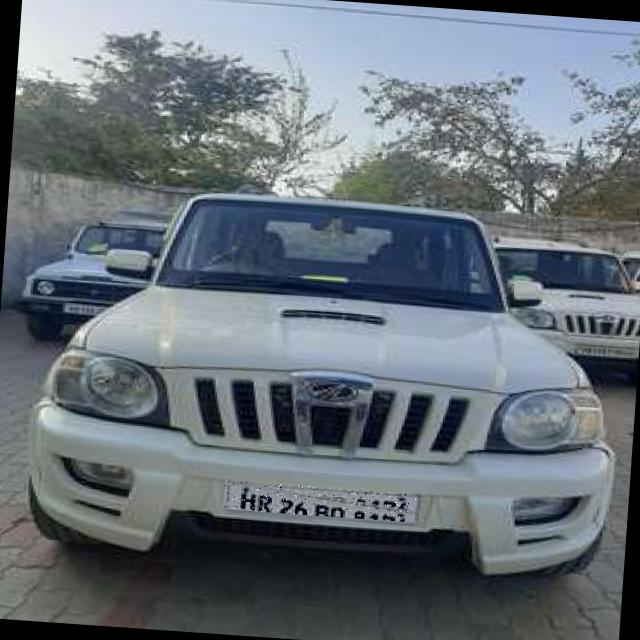Plate: (224, 481, 418, 523)
